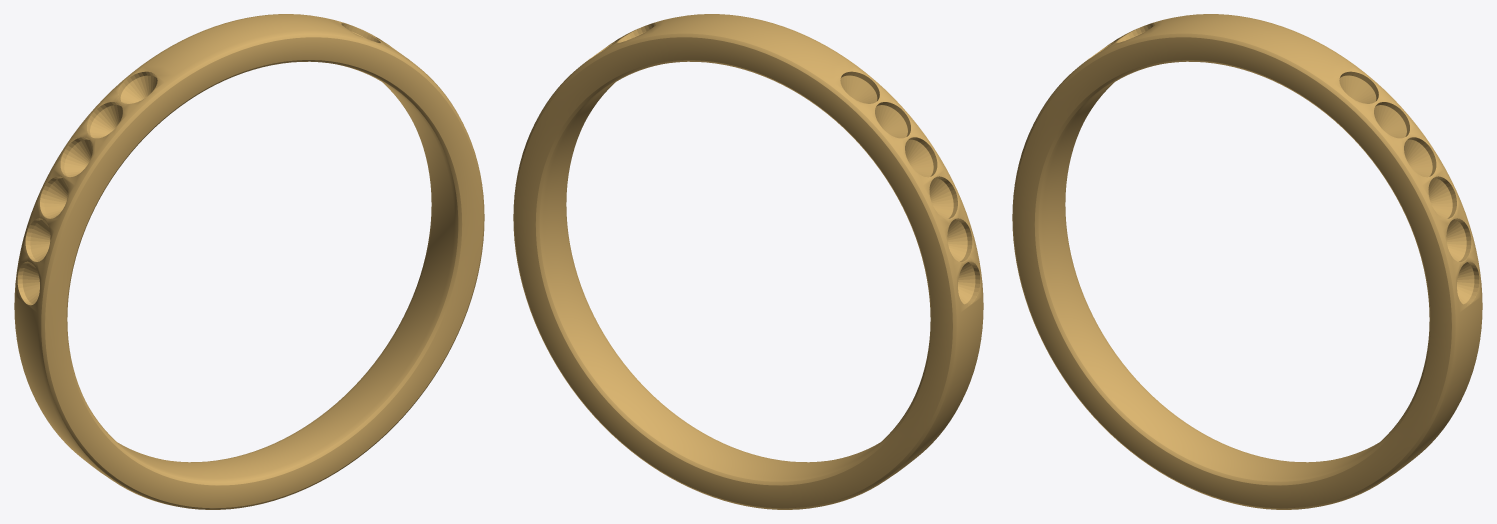
The model's file is flat-flush-accents.glb.
3 views of the same model, side by side, from view 1: azimuth 30°, elevation 25°; view 2: azimuth 150°, elevation 25°; view 3: azimuth 330°, elevation 25° (orthographic).
Parts seen in each view (by area): view 1: Band; view 2: Band; view 3: Band.
Part boxes in pixels (left/top/right/bottom): Band: left=14, top=14, right=484, bottom=509; Band: left=513, top=14, right=983, bottom=509; Band: left=1012, top=14, right=1482, bottom=509.
Bounding box in the file's own units: 19.6 × 19.6 × 2.3.
